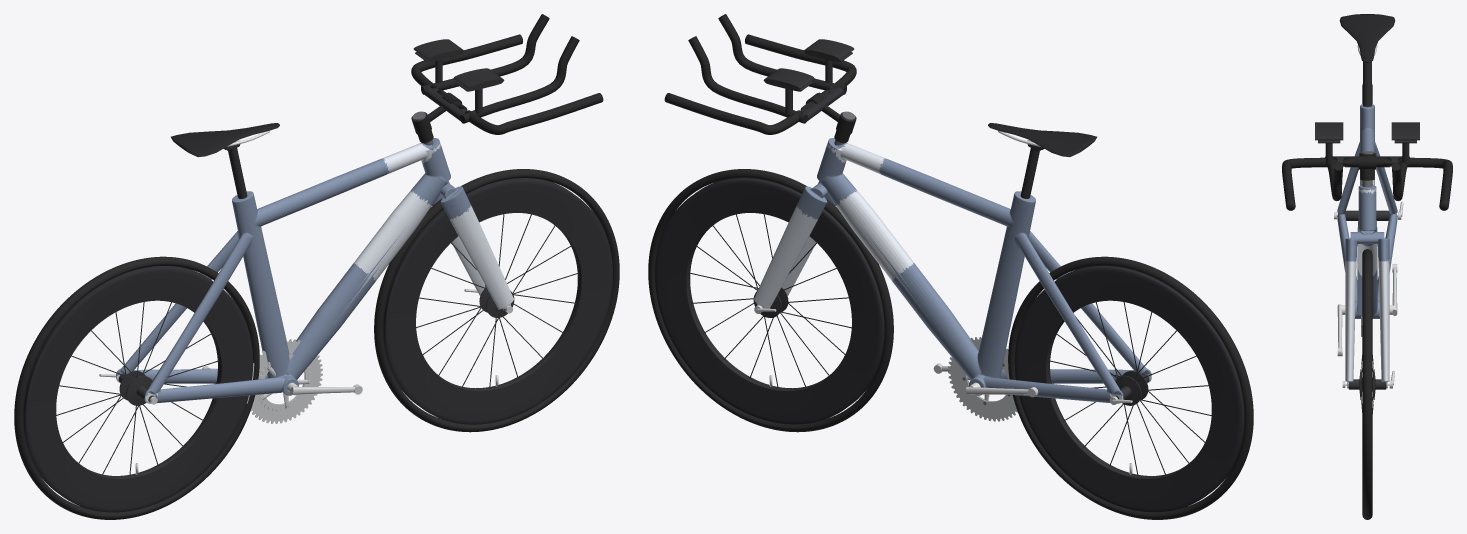
File: bike_web_raw.glb
3 views of the same model, side by side, from view 1: azimuth 30°, elevation 25°; view 2: azimuth 150°, elevation 25°; view 3: azimuth 270°, elevation 25° (orthographic). The views are drawn at different scales.
Parts seen in each view (by area): view 1: frame, rim_front, rim_rear, tyre_rear, tyre_front, clipons, fork, basebar, chainrings, spokes_front, saddle, spokes_rear (+3 smaller); view 2: frame, rim_front, rim_rear, tyre_rear, tyre_front, clipons, fork, basebar, chainrings, spokes_front, spokes_rear, saddle (+3 smaller); view 3: frame, fork, tyre_front, clipons, basebar, saddle, crank_arms, stem, seatpost, hub_front, hub_rear.
Boxes of the visible parts, bbox=[...] form: frame: bbox=[116, 138, 450, 403]; rim_front: bbox=[383, 178, 612, 424]; rim_rear: bbox=[23, 266, 253, 512]; tyre_rear: bbox=[14, 256, 259, 519]; tyre_front: bbox=[374, 169, 619, 432]; clipons: bbox=[413, 14, 579, 123]; fork: bbox=[432, 181, 513, 310]; basebar: bbox=[411, 34, 603, 134]; chainrings: bbox=[246, 339, 322, 423]; spokes_front: bbox=[416, 214, 578, 387]; saddle: bbox=[171, 123, 279, 157]; spokes_rear: bbox=[56, 302, 218, 475]; frame: bbox=[817, 138, 1151, 403]; rim_front: bbox=[655, 178, 884, 424]; rim_rear: bbox=[1014, 266, 1244, 512]; tyre_rear: bbox=[1008, 256, 1253, 519]; tyre_front: bbox=[648, 169, 893, 432]; clipons: bbox=[688, 14, 854, 123]; fork: bbox=[754, 181, 835, 308]; basebar: bbox=[664, 34, 856, 134]; chainrings: bbox=[948, 337, 1017, 421]; spokes_front: bbox=[689, 214, 851, 387]; spokes_rear: bbox=[1049, 302, 1211, 475]; saddle: bbox=[988, 123, 1096, 157]; frame: bbox=[1337, 104, 1397, 318]; fork: bbox=[1345, 232, 1389, 388]; tyre_front: bbox=[1362, 249, 1372, 519]; clipons: bbox=[1315, 122, 1419, 200]; basebar: bbox=[1282, 157, 1452, 210]; saddle: bbox=[1339, 14, 1395, 62]; crank_arms: bbox=[1337, 263, 1397, 356]; stem: bbox=[1359, 151, 1375, 186]; seatpost: bbox=[1363, 61, 1371, 106]; hub_front: bbox=[1347, 369, 1387, 399]; hub_rear: bbox=[1345, 210, 1389, 220].
Size of the model in its own units: 1.66 by 1.02 by 0.4241.
